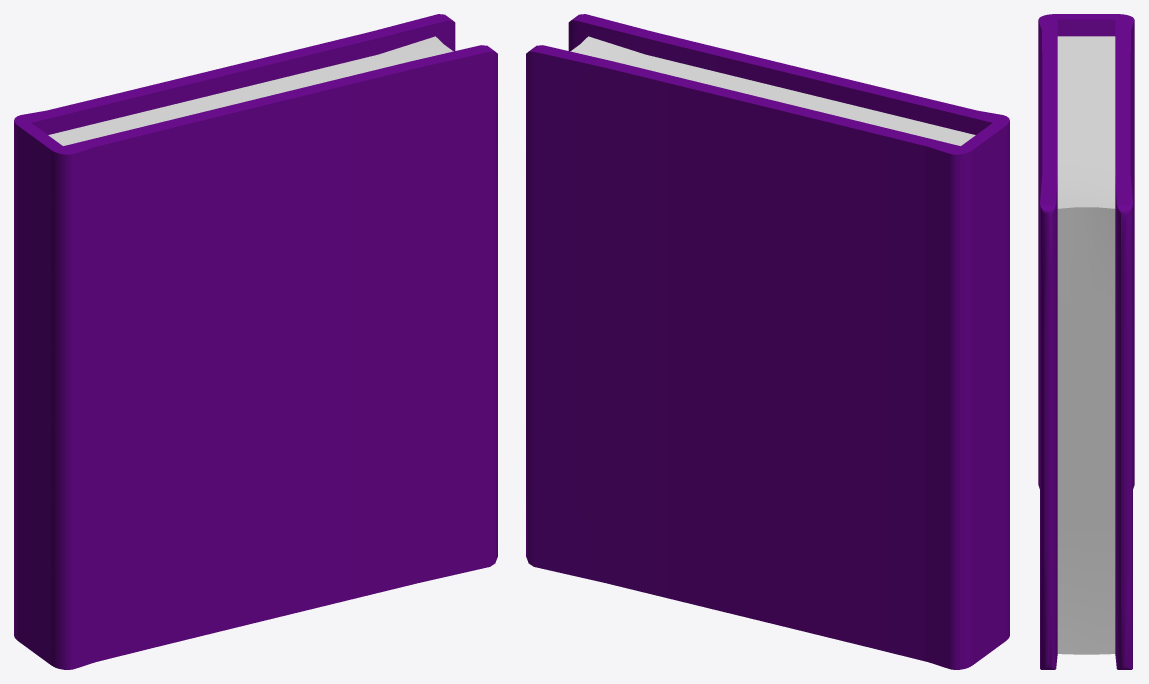
File: book_violet.fbx
3 views of the same model, side by side, from view 1: azimuth 30°, elevation 25°; view 2: azimuth 150°, elevation 25°; view 3: azimuth 270°, elevation 25° (orthographic). The views are drawn at different scales.
Visible parts, largest first — view 1: pCube1; view 2: pCube1; view 3: pCube1.
Boxes of the visible parts, left/top/right/bottom form: pCube1: left=14, top=14, right=497, bottom=669; pCube1: left=526, top=14, right=1009, bottom=669; pCube1: left=1038, top=14, right=1134, bottom=669.
Size of the model in its own units: 23.21 by 25.88 by 4.84.
